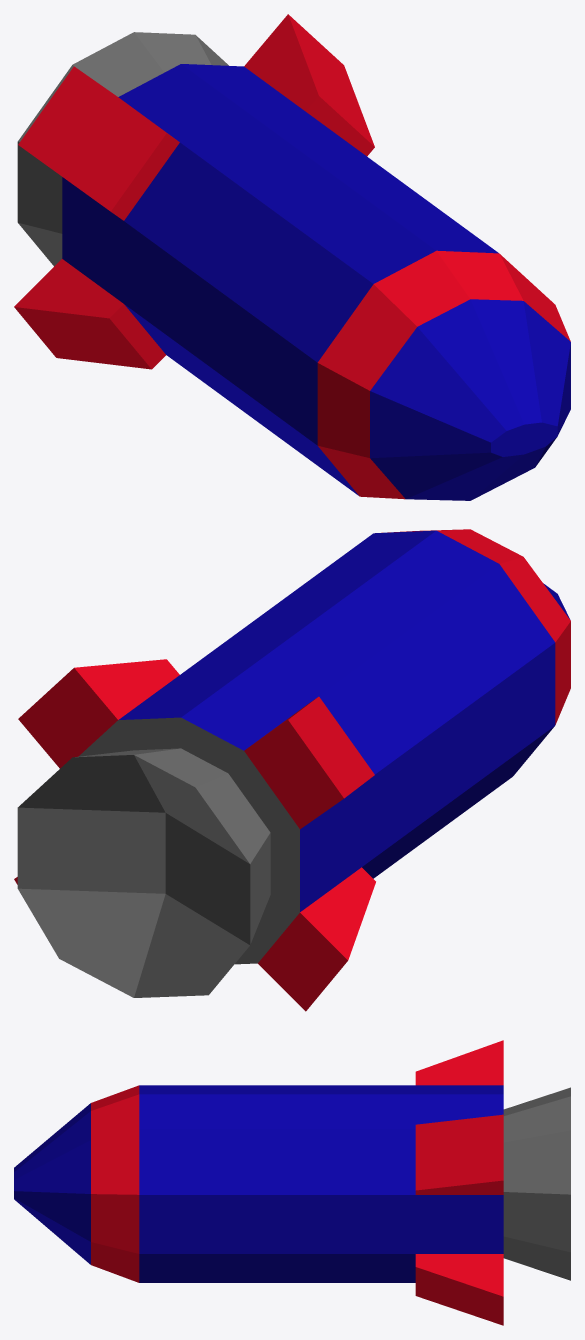
The model's file is rocket_projectile.fbx.
3 views of the same model, one above another, from view 1: azimuth 30°, elevation 25°; view 2: azimuth 150°, elevation 25°; view 3: azimuth 270°, elevation 25° (orthographic). The views are drawn at different scales.
Parts seen in each view (by area): view 1: rocket_projectile; view 2: rocket_projectile; view 3: rocket_projectile.
Part boxes in pixels (x1=…): rocket_projectile: x1=14, y1=14, x2=570, y2=500; rocket_projectile: x1=14, y1=529, x2=570, y2=1011; rocket_projectile: x1=14, y1=1040, x2=570, y2=1325.
Bounding box in the file's own units: 281 × 231 × 569.
